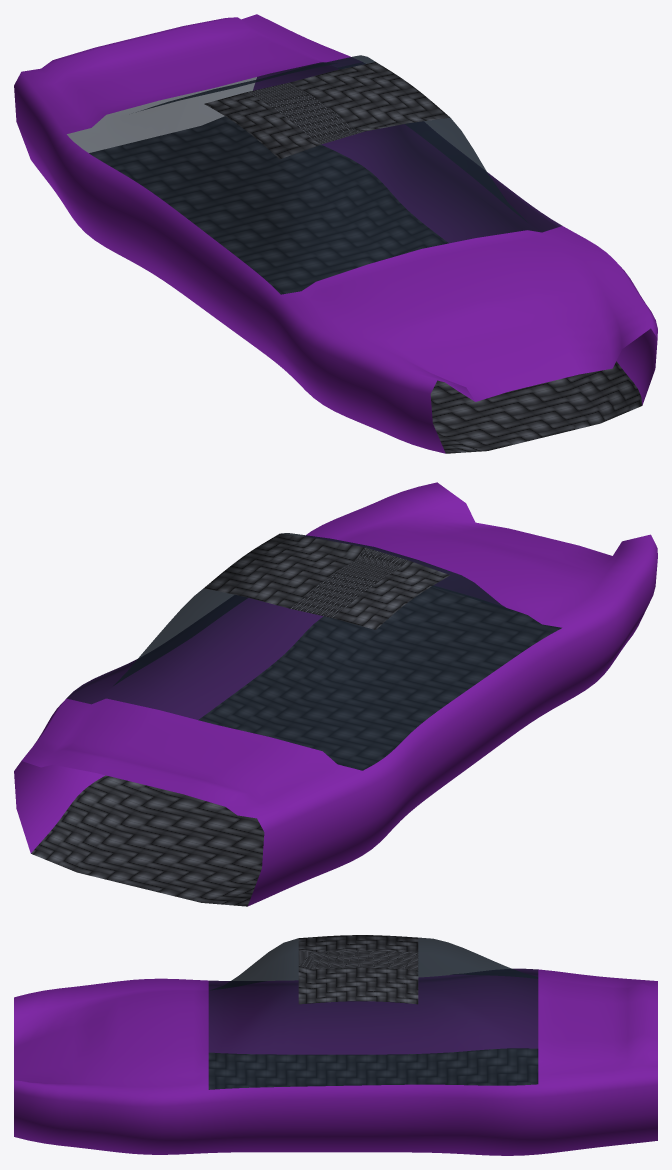
Rendered from bmw_m8.obj.
3 views of the same model, one above another, from view 1: azimuth 30°, elevation 25°; view 2: azimuth 150°, elevation 25°; view 3: azimuth 270°, elevation 25° (orthographic). The views are drawn at different scales.
Parts seen in each view (by area): view 1: BodyPaintShell, CarbonAeroAndRoof, GreenhouseWindows; view 2: BodyPaintShell, CarbonAeroAndRoof, GreenhouseWindows; view 3: BodyPaintShell, GreenhouseWindows, CarbonAeroAndRoof.
Part boxes in pixels (x1,y1,x2,y2): BodyPaintShell: (14, 14, 657, 453); CarbonAeroAndRoof: (89, 62, 642, 453); GreenhouseWindows: (67, 55, 561, 294); BodyPaintShell: (14, 482, 657, 906); CarbonAeroAndRoof: (31, 533, 561, 906); GreenhouseWindows: (66, 533, 561, 770); BodyPaintShell: (14, 969, 657, 1155); GreenhouseWindows: (208, 937, 538, 1089); CarbonAeroAndRoof: (209, 935, 537, 1089).
Size of the model in its own units: 2.22 by 1.2 by 4.87.
3 materials, 1 textured.
